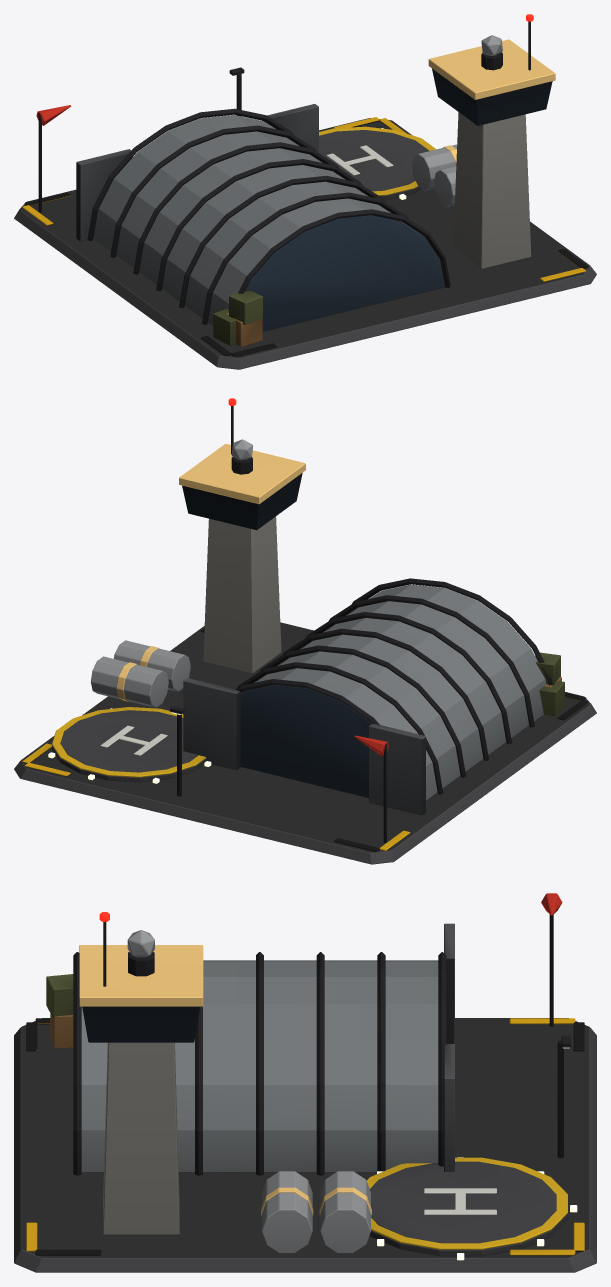
The model's file is aircraft_factory.glb.
3 renders of one model, top to bottom at view 1: azimuth 30°, elevation 25°; view 2: azimuth 150°, elevation 25°; view 3: azimuth 270°, elevation 25°, orthographic. The views are drawn at different scales.
Visible parts, largest first — view 1: aircraft_factory; view 2: aircraft_factory; view 3: aircraft_factory.
Part boxes in pixels (x1,y1,x2,y2): aircraft_factory: [14, 14, 596, 369]; aircraft_factory: [14, 398, 596, 864]; aircraft_factory: [14, 893, 596, 1272].
Bounding box in the file's own units: 3.2 × 2.01 × 3.2.
